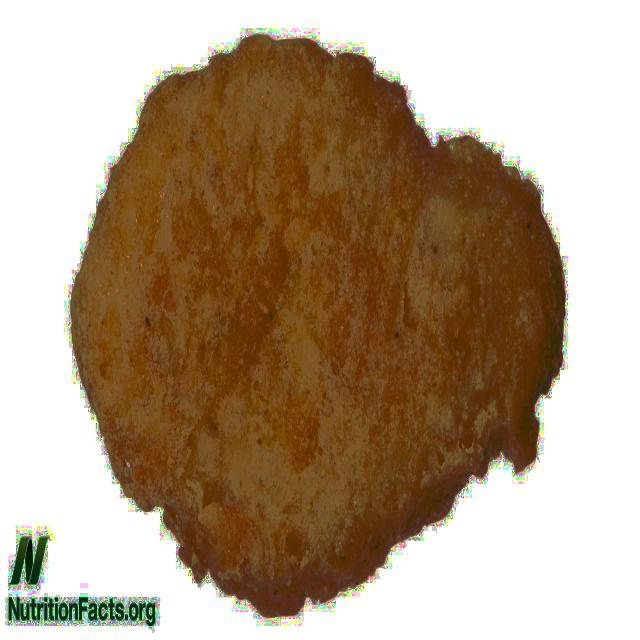chicken_nuggets: (73, 16, 572, 587)
